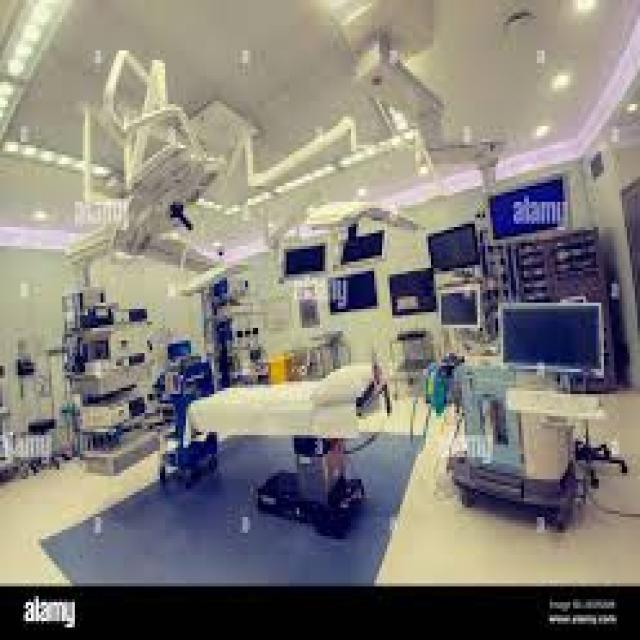Monitor: (497, 296, 607, 392), (428, 276, 489, 332)
bed: (178, 360, 402, 542)
